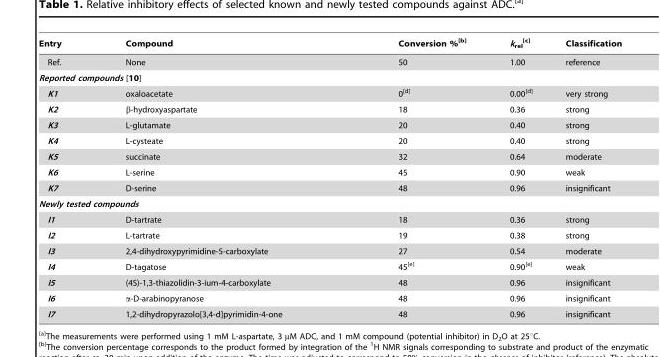table: (37, 37, 621, 318)
table column: (92, 37, 339, 318), (339, 37, 487, 318), (548, 37, 621, 318), (487, 37, 548, 318), (37, 37, 92, 318)
table column header: (37, 37, 621, 52)
table projected row header: (37, 195, 621, 211), (37, 69, 621, 84)
table row: (37, 52, 621, 69), (37, 84, 621, 101), (37, 101, 621, 117), (37, 132, 621, 148), (37, 148, 621, 164), (37, 164, 621, 180), (37, 195, 621, 211), (37, 211, 621, 227), (37, 227, 621, 243), (37, 258, 621, 274), (37, 274, 621, 290), (37, 290, 621, 306), (37, 37, 621, 52), (37, 69, 621, 84), (37, 117, 621, 132), (37, 180, 621, 195), (37, 243, 621, 258), (37, 306, 621, 318)
